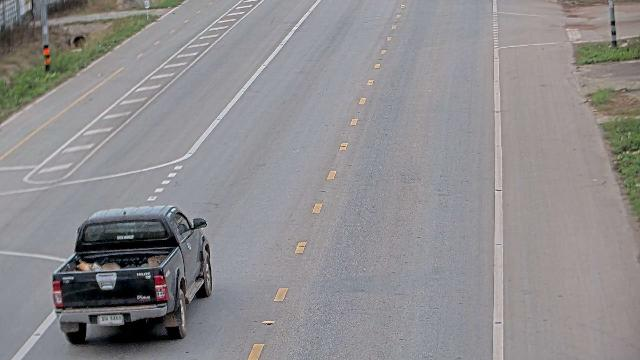pickup-truck: (51, 204, 213, 344)
